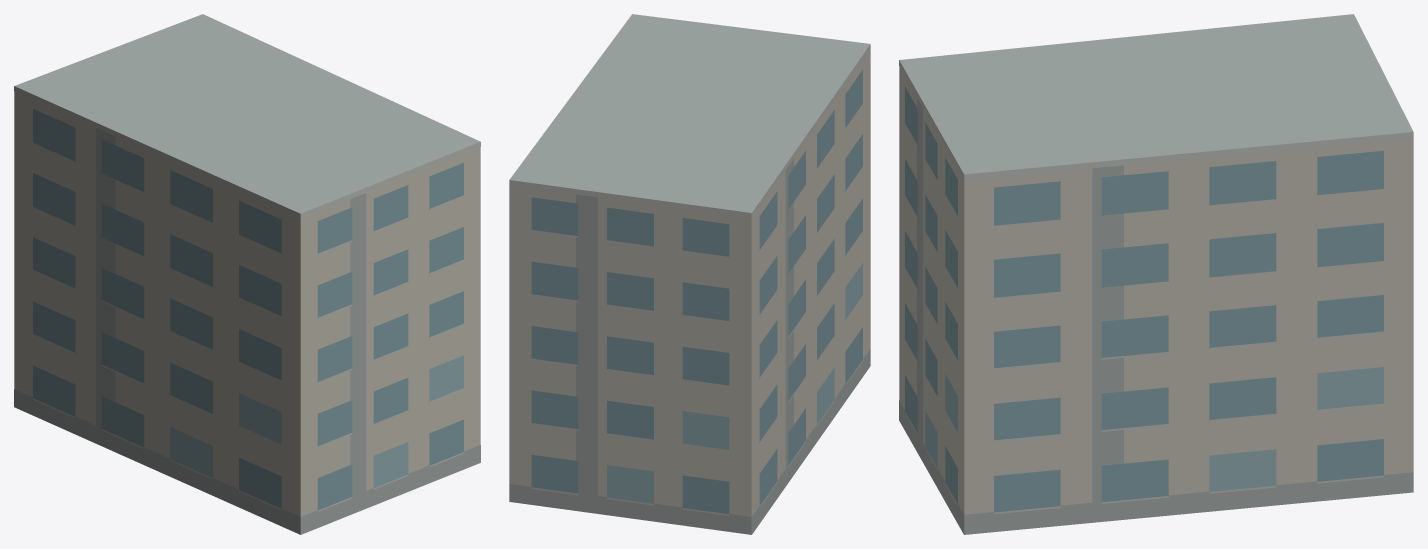
The model's file is survey-upis-32814794.glb.
3 renders of one model, left to right at view 1: azimuth 30°, elevation 25°; view 2: azimuth 150°, elevation 25°; view 3: azimuth 270°, elevation 25°, orthographic. The views are drawn at different scales.
Visible parts, largest first — view 1: survey-upis-32814794.tmp; view 2: survey-upis-32814794.tmp; view 3: survey-upis-32814794.tmp.
Boxes of the visible parts, x1,y1,x2,y2 form: survey-upis-32814794.tmp: [14, 14, 480, 534]; survey-upis-32814794.tmp: [509, 14, 870, 534]; survey-upis-32814794.tmp: [899, 14, 1413, 534].
Size of the model in its own units: 14.09 by 14.75 by 19.09.
